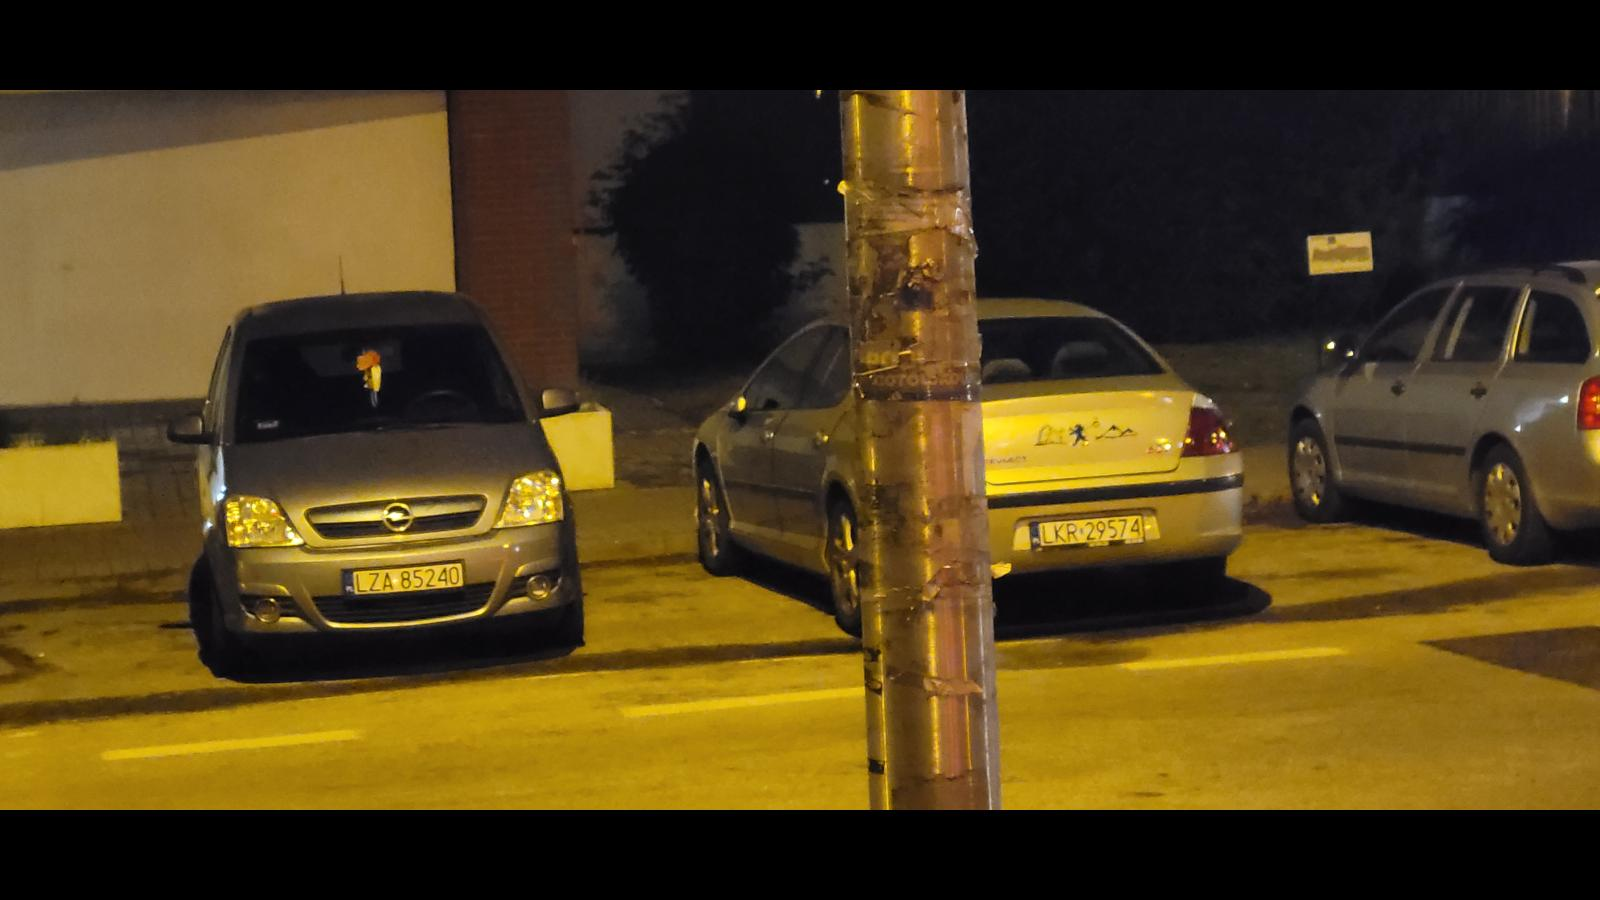plates: (1030, 514, 1144, 552), (344, 562, 464, 596)
